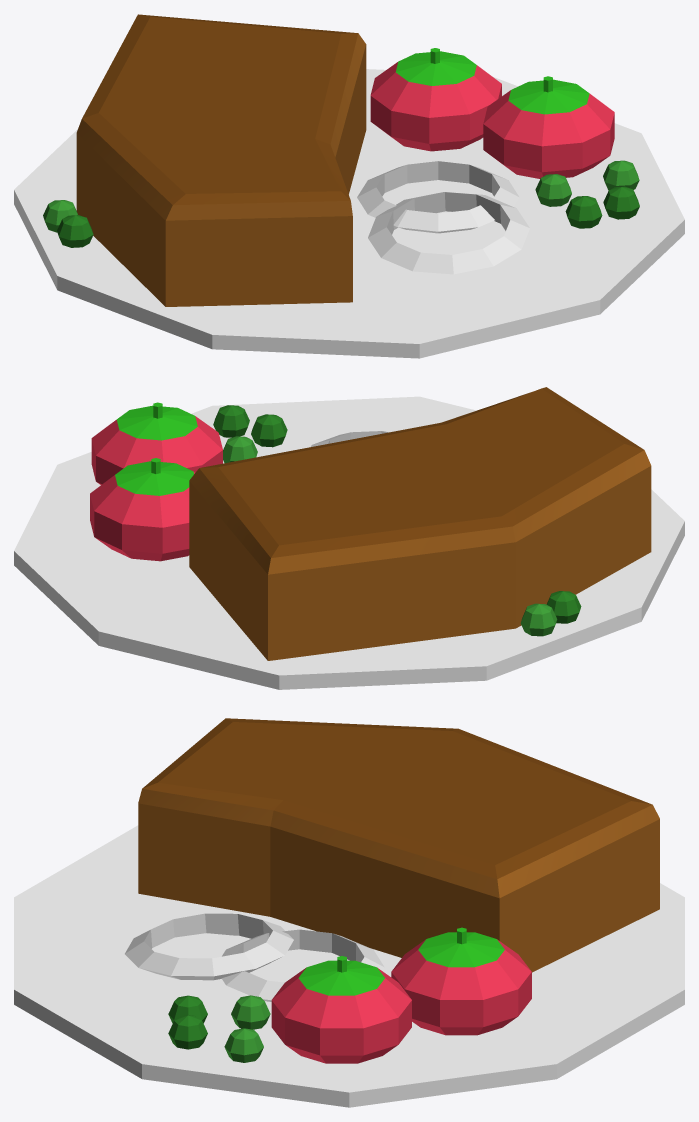
Rendered from Steak.fbx.
3 views of the same model, one above another, from view 1: azimuth 30°, elevation 25°; view 2: azimuth 150°, elevation 25°; view 3: azimuth 270°, elevation 25° (orthographic). The views are drawn at different scales.
Parts seen in each view (by area): view 1: Steak; view 2: Steak; view 3: Steak.
Part boxes in pixels (box(x1,y1,x2,y2)): Steak: box(14, 14, 684, 358); Steak: box(14, 387, 684, 689); Steak: box(14, 718, 684, 1107).
Size of the model in its own units: 21.24 by 4.38 by 20.2.
Materials: 1 (1 with a texture image).
